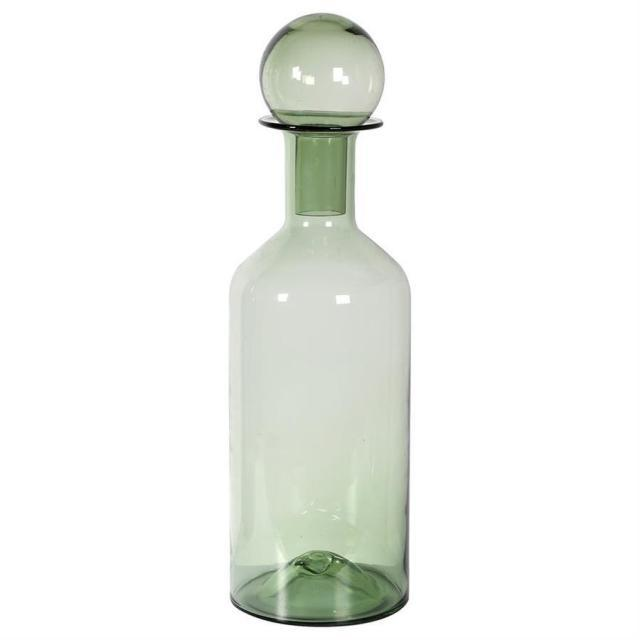Glass: (226, 11, 414, 628)
